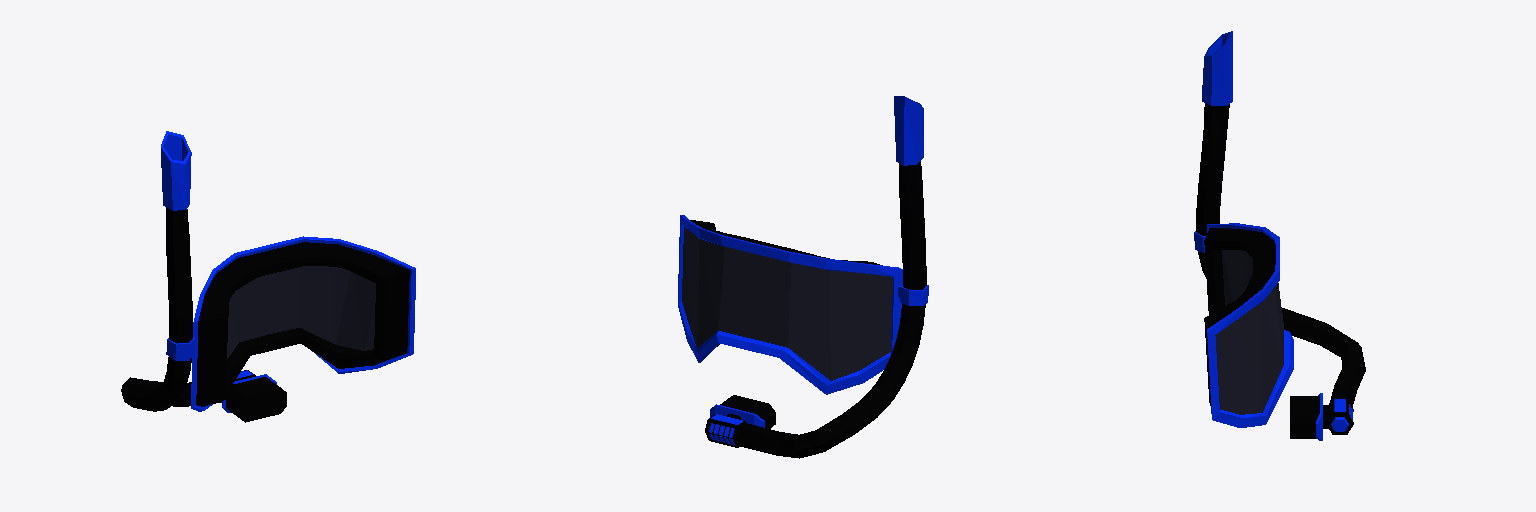
File: 2024_summer_pack.obj
The picture shows the model from 3 angles: view 1: azimuth 30°, elevation 25°; view 2: azimuth 150°, elevation 25°; view 3: azimuth 270°, elevation 25°; orthographic projection.
Visible parts, largest first — view 1: 2, 0, 1; view 2: 0, 2, 1; view 3: 2, 0, 1.
Part boxes in pixels (x1,y1,x2,y2): 2: (121,207,409,422); 0: (227,266,375,358); 1: (161,131,415,412); 0: (682,227,892,380); 2: (690,161,926,458); 1: (678,96,928,444); 2: (1196,103,1365,438); 0: (1215,250,1283,414); 1: (1194,31,1352,440).
Size of the model in its own units: 0.4743 by 0.6203 by 0.285.